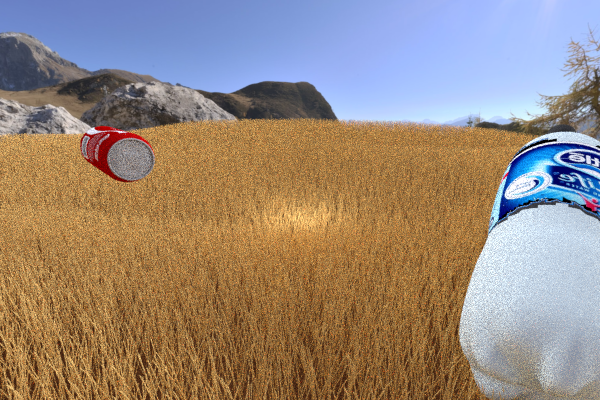Plastic Bottle: (459, 124, 600, 400), (79, 126, 154, 182)
